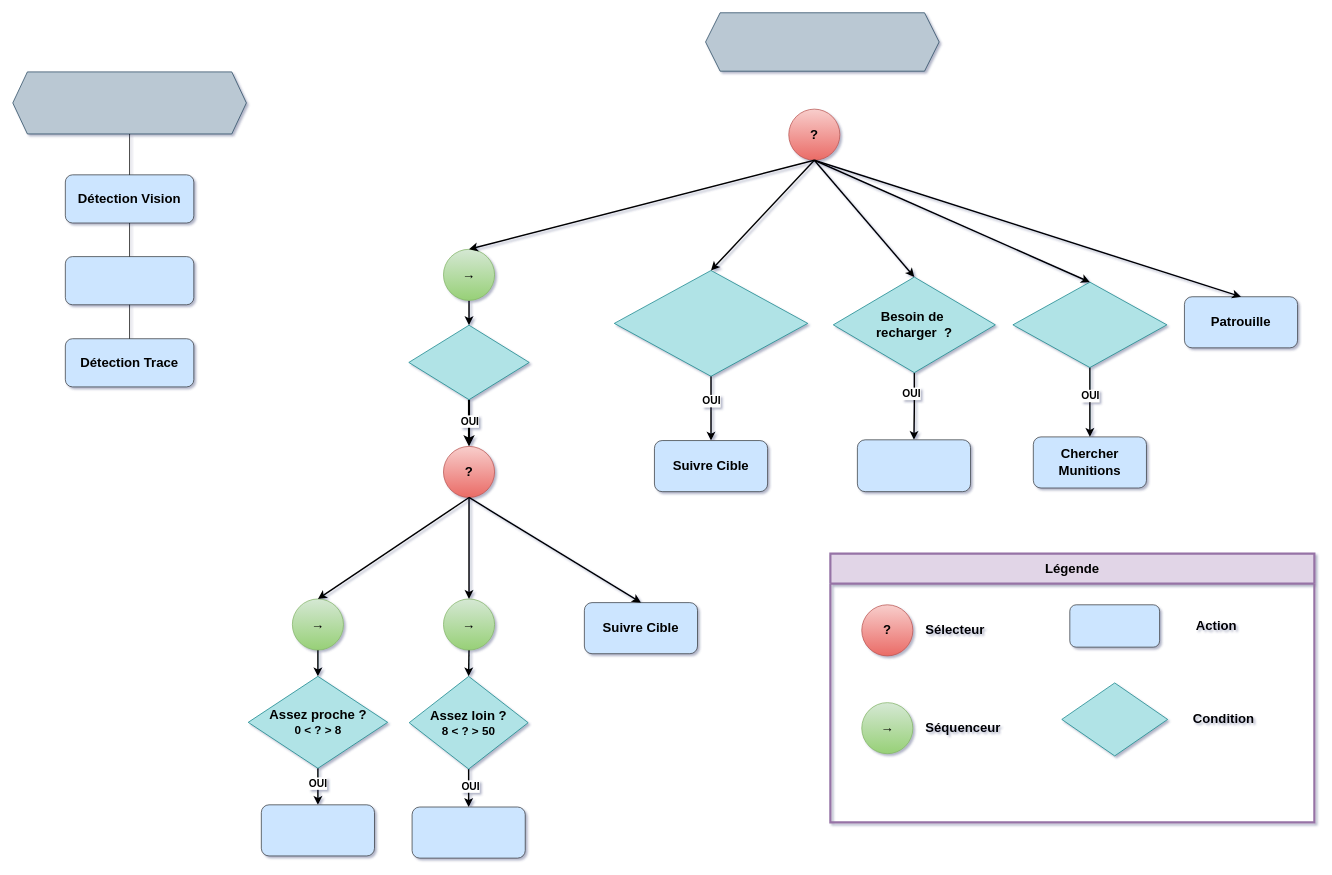
This 1332x875 diagram has some shape labels left out. The centre of each missing label's shape, as x and y in pixels:
"A la dernière positon de la cible ?" goes at (x=711, y=323).
"A une cible ?" goes at (x=468, y=362).
"Attaque corps à corps" goes at (x=317, y=830).
"Attaque à distance" goes at (x=468, y=832).
"BEHAVIOUR TREE" goes at (x=822, y=41).
"Besoin de munitions ?" goes at (x=1089, y=324).
"Détection Bruit" goes at (x=129, y=280).
"PERCEPTION" goes at (x=129, y=102).
"Recharge arme" goes at (x=914, y=465).
